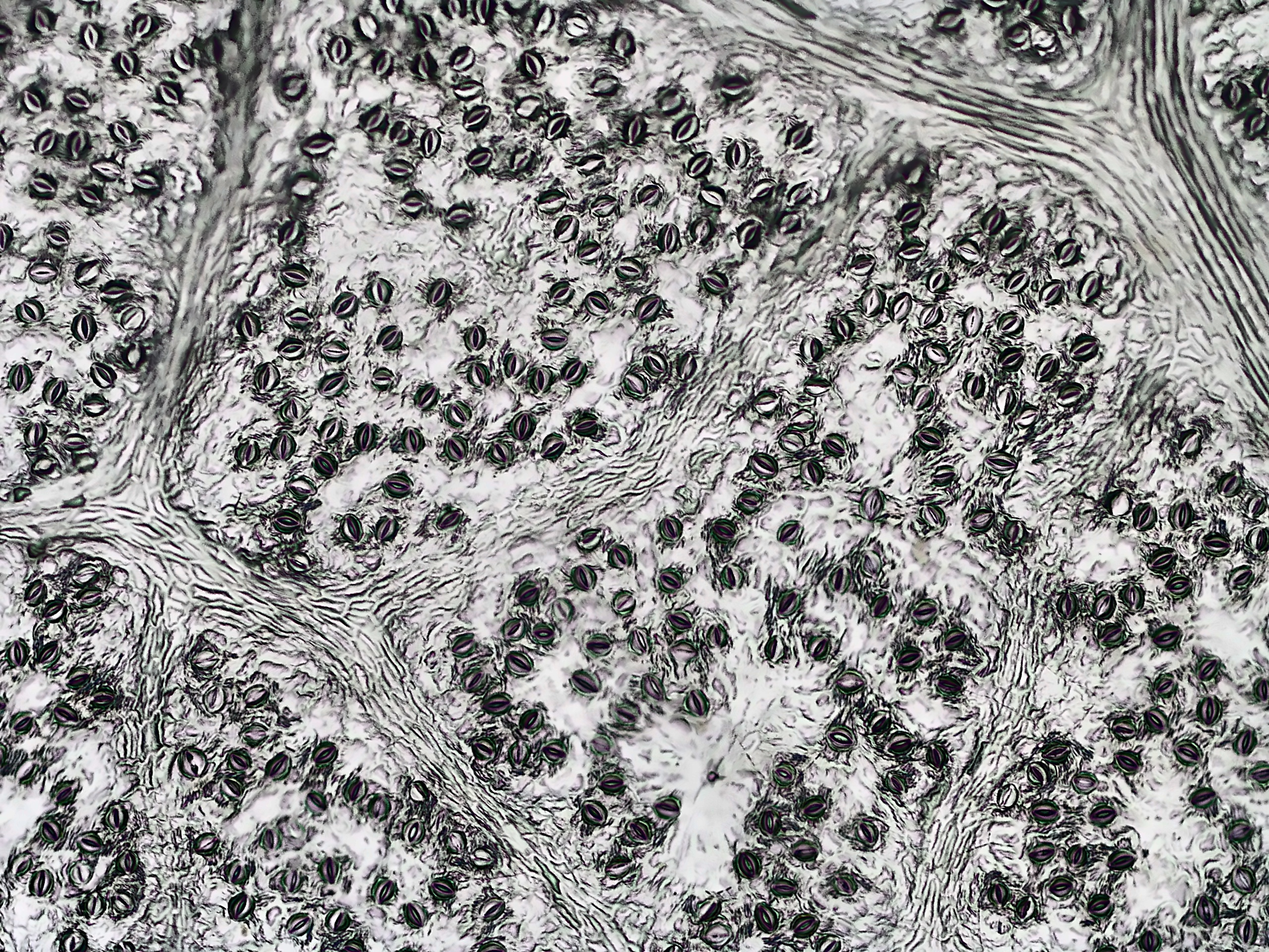stomata: (206, 17, 252, 75), (1220, 63, 1256, 118), (1051, 374, 1096, 417), (464, 827, 502, 876), (846, 803, 884, 852), (268, 63, 313, 102), (1161, 571, 1206, 610), (182, 637, 235, 670), (1015, 890, 1052, 936), (831, 303, 865, 353), (826, 869, 876, 903), (1097, 615, 1138, 656), (793, 789, 839, 825), (281, 465, 328, 500), (1023, 794, 1076, 825), (603, 850, 643, 891), (891, 150, 934, 188), (803, 625, 840, 669), (917, 736, 954, 780), (365, 271, 404, 312), (273, 296, 320, 330), (723, 845, 767, 880), (369, 319, 409, 357), (605, 246, 645, 284), (980, 443, 1023, 477), (92, 276, 146, 303), (585, 64, 624, 101), (12, 292, 49, 331), (848, 545, 887, 582), (256, 749, 298, 783), (1226, 809, 1260, 851), (623, 616, 655, 660), (657, 588, 695, 625), (286, 169, 326, 204), (502, 733, 535, 775), (1241, 101, 1268, 152), (818, 417, 850, 460), (783, 108, 820, 145), (540, 106, 576, 144), (670, 112, 708, 148), (53, 913, 89, 951), (666, 634, 702, 672), (733, 216, 768, 255), (962, 355, 991, 402), (312, 363, 352, 397), (714, 70, 755, 103), (970, 198, 1011, 231), (994, 298, 1027, 339), (1117, 569, 1149, 611), (22, 5, 65, 36), (458, 358, 501, 389), (334, 766, 365, 809), (174, 739, 211, 775), (1173, 732, 1209, 769), (271, 263, 320, 290), (474, 896, 517, 926), (26, 864, 59, 903), (1233, 860, 1264, 901), (588, 189, 623, 225), (430, 873, 466, 908), (1040, 735, 1085, 763), (987, 779, 1021, 816), (929, 0, 967, 33), (38, 372, 71, 410), (12, 416, 50, 449), (853, 482, 885, 521), (1104, 847, 1152, 873), (407, 44, 441, 80), (273, 214, 307, 250), (352, 415, 381, 457), (273, 505, 312, 536), (1010, 15, 1038, 58), (1054, 229, 1082, 272), (1080, 797, 1126, 823), (573, 660, 602, 701), (455, 104, 499, 131), (459, 147, 503, 174), (634, 172, 667, 208), (1178, 777, 1214, 810), (412, 377, 444, 414), (106, 885, 143, 917), (911, 421, 949, 452), (115, 338, 157, 366), (60, 84, 99, 114), (202, 676, 232, 715), (356, 99, 390, 133), (940, 667, 974, 701), (653, 512, 688, 545), (63, 125, 94, 162), (134, 158, 165, 195), (299, 126, 337, 156), (25, 170, 64, 199), (400, 187, 434, 220), (310, 448, 345, 480), (238, 677, 278, 705), (951, 238, 983, 273), (1146, 541, 1186, 569), (266, 425, 297, 461), (130, 2, 160, 39), (507, 141, 537, 178), (403, 815, 433, 852), (77, 388, 118, 415), (91, 153, 129, 182), (9, 353, 34, 397), (234, 303, 260, 345), (1065, 764, 1107, 790), (458, 321, 492, 353), (535, 181, 569, 213), (699, 268, 735, 298), (1219, 564, 1259, 591), (729, 485, 767, 513), (1195, 529, 1233, 557), (191, 828, 224, 860), (910, 378, 943, 410), (76, 181, 110, 212), (628, 817, 662, 848), (575, 150, 614, 177), (468, 730, 495, 769), (577, 403, 602, 445), (331, 288, 360, 324), (232, 433, 261, 469), (630, 293, 666, 322), (554, 206, 580, 246), (652, 790, 689, 818), (427, 508, 470, 532), (585, 791, 612, 829), (314, 412, 347, 443), (62, 693, 93, 726), (275, 863, 308, 894), (38, 811, 71, 842), (997, 341, 1028, 374), (1047, 586, 1078, 619), (496, 345, 526, 379), (540, 322, 574, 352), (254, 358, 280, 397), (1040, 276, 1066, 315), (749, 452, 788, 478), (213, 775, 249, 803), (660, 218, 685, 258), (543, 427, 570, 464), (607, 543, 634, 580), (1005, 513, 1032, 550), (982, 876, 1013, 908), (112, 117, 142, 150), (922, 337, 952, 370), (542, 279, 580, 305), (448, 42, 482, 71), (656, 563, 685, 597), (617, 371, 652, 399), (802, 328, 829, 364), (703, 923, 739, 950), (28, 126, 60, 156), (530, 357, 554, 397), (227, 889, 257, 921), (610, 587, 642, 617), (444, 393, 473, 426), (750, 171, 778, 205), (787, 172, 815, 206), (451, 666, 489, 691), (1195, 893, 1220, 931), (563, 11, 598, 38), (328, 26, 351, 67), (1234, 909, 1257, 950), (118, 46, 144, 82), (269, 332, 305, 358), (320, 849, 346, 885), (480, 687, 516, 713), (750, 901, 786, 927), (157, 78, 187, 109), (90, 360, 120, 391), (404, 773, 435, 803), (1027, 835, 1058, 865), (752, 384, 781, 416), (325, 899, 362, 924), (1151, 623, 1188, 648), (777, 210, 810, 238), (65, 857, 98, 885), (68, 555, 101, 583), (513, 710, 555, 732), (79, 18, 106, 52), (72, 307, 96, 345), (763, 632, 789, 667), (430, 274, 455, 310), (1073, 333, 1103, 363), (1110, 712, 1139, 743), (16, 755, 48, 783), (688, 686, 716, 718), (772, 515, 804, 543), (1042, 872, 1074, 900), (499, 609, 526, 642), (1143, 703, 1170, 736), (304, 776, 328, 813), (413, 12, 439, 46), (28, 260, 62, 286), (374, 510, 397, 548), (91, 688, 137, 707), (570, 552, 593, 590), (581, 631, 619, 654), (615, 29, 644, 59), (334, 512, 363, 542), (243, 715, 272, 745), (658, 83, 686, 114), (308, 737, 339, 765), (113, 306, 149, 330), (444, 431, 471, 463), (703, 185, 735, 212), (34, 638, 61, 670), (833, 718, 865, 745), (728, 130, 749, 171), (18, 87, 51, 113), (61, 429, 94, 455), (373, 359, 398, 393), (511, 406, 536, 440), (777, 426, 811, 451), (7, 617, 23, 670), (11, 707, 40, 736), (380, 154, 415, 178), (37, 595, 67, 623), (993, 376, 1017, 411), (531, 0, 558, 31), (1001, 225, 1028, 256), (769, 762, 800, 789), (895, 193, 917, 231), (1113, 748, 1145, 774), (1181, 428, 1206, 461), (537, 740, 578, 760), (961, 302, 985, 336), (379, 861, 397, 906), (676, 350, 703, 380), (779, 591, 806, 621), (867, 593, 897, 620), (353, 8, 379, 39), (488, 444, 519, 470), (288, 548, 314, 579), (1216, 470, 1247, 496), (519, 44, 544, 76), (684, 156, 716, 181), (837, 672, 869, 697), (917, 503, 949, 528), (1066, 834, 1091, 866), (1087, 896, 1119, 921), (862, 281, 884, 317), (829, 562, 851, 598), (583, 288, 612, 315), (800, 377, 839, 397), (798, 459, 824, 489), (510, 643, 530, 682), (912, 597, 938, 627), (79, 823, 104, 854), (869, 700, 894, 731), (108, 799, 132, 831), (528, 619, 560, 643), (881, 774, 914, 797), (174, 42, 200, 71), (43, 221, 72, 247), (386, 469, 415, 495), (402, 895, 427, 925), (74, 257, 105, 281), (927, 460, 958, 484), (1255, 43, 1269, 96), (570, 525, 605, 546), (455, 68, 482, 95), (612, 699, 638, 727), (595, 771, 631, 791), (962, 512, 998, 532), (1172, 494, 1192, 530), (891, 245, 935, 261), (286, 904, 318, 926), (1028, 759, 1050, 791), (79, 894, 106, 920), (372, 790, 390, 829), (897, 646, 923, 673), (1061, 8, 1086, 36), (850, 249, 875, 277), (802, 936, 852, 950), (792, 839, 821, 863), (1084, 267, 1102, 305), (568, 357, 590, 388), (1004, 273, 1031, 298), (585, 236, 606, 268), (642, 352, 674, 373), (1091, 588, 1115, 616), (772, 875, 801, 898), (1205, 654, 1227, 684), (74, 589, 115, 605), (644, 675, 665, 706), (515, 580, 546, 601), (18, 575, 43, 601), (1139, 925, 1164, 951), (418, 129, 441, 157), (279, 398, 307, 421), (1202, 692, 1222, 724), (707, 620, 729, 649), (516, 95, 546, 116), (1040, 348, 1058, 383), (1234, 725, 1253, 758), (118, 850, 142, 876), (691, 212, 711, 243), (897, 359, 917, 390), (0, 216, 18, 250), (61, 769, 79, 803), (30, 454, 59, 475), (1018, 399, 1037, 431), (449, 636, 481, 655), (390, 119, 415, 143), (796, 907, 821, 931), (439, 0, 465, 23), (322, 340, 349, 362), (11, 851, 33, 878), (260, 823, 281, 851), (627, 114, 644, 148), (716, 519, 740, 543), (1248, 488, 1266, 520), (226, 750, 253, 771), (404, 425, 422, 455), (1139, 504, 1159, 531), (1248, 525, 1268, 552), (1249, 766, 1268, 794), (891, 289, 908, 320), (1153, 674, 1178, 695), (447, 206, 473, 226), (950, 626, 969, 653), (884, 736, 916, 752), (763, 807, 779, 839), (1250, 673, 1267, 703), (230, 861, 256, 880), (721, 565, 742, 588), (929, 274, 949, 298), (921, 305, 940, 329), (376, 52, 394, 77), (502, 0, 532, 15), (556, 597, 577, 618), (485, 44, 508, 63), (74, 667, 95, 687), (471, 7, 493, 25), (71, 456, 91, 472), (384, 2, 405, 14)
